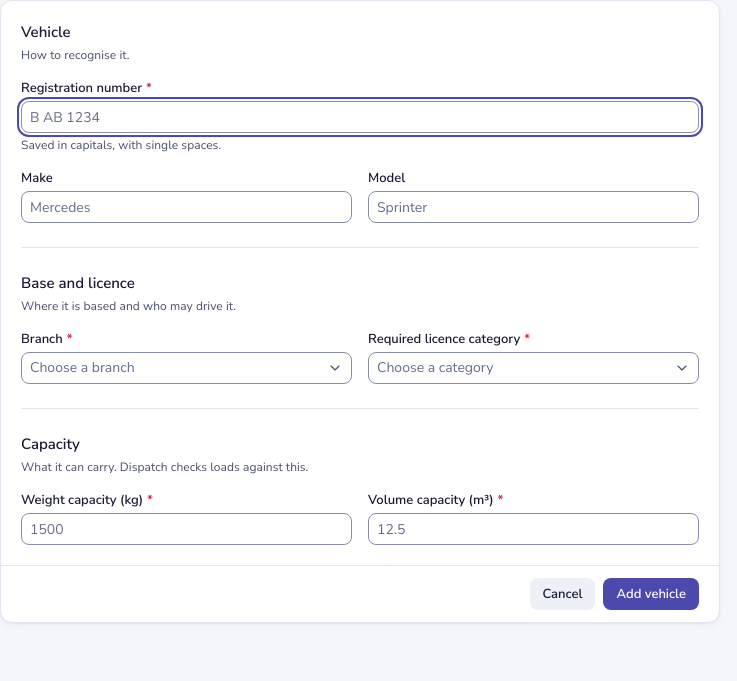
Test: VehicleForm › adding a vehicle › asks for every missing required field and sends nothing
The image size is (737, 681).
Click the button "Add vehicle": [651, 594] box [604,578,699,610]
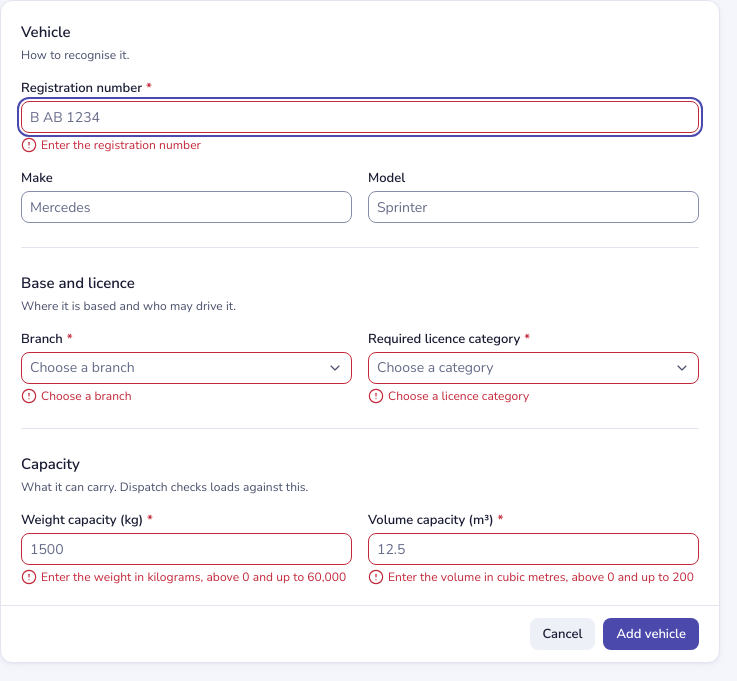
Now the text "Enter the registration number" is shown, box [21,137,201,153]
Now the text "Choose a branch" is shown, box [21,388,132,404]
Now the text "Choose a licence category" is shown, box [368,388,529,404]
